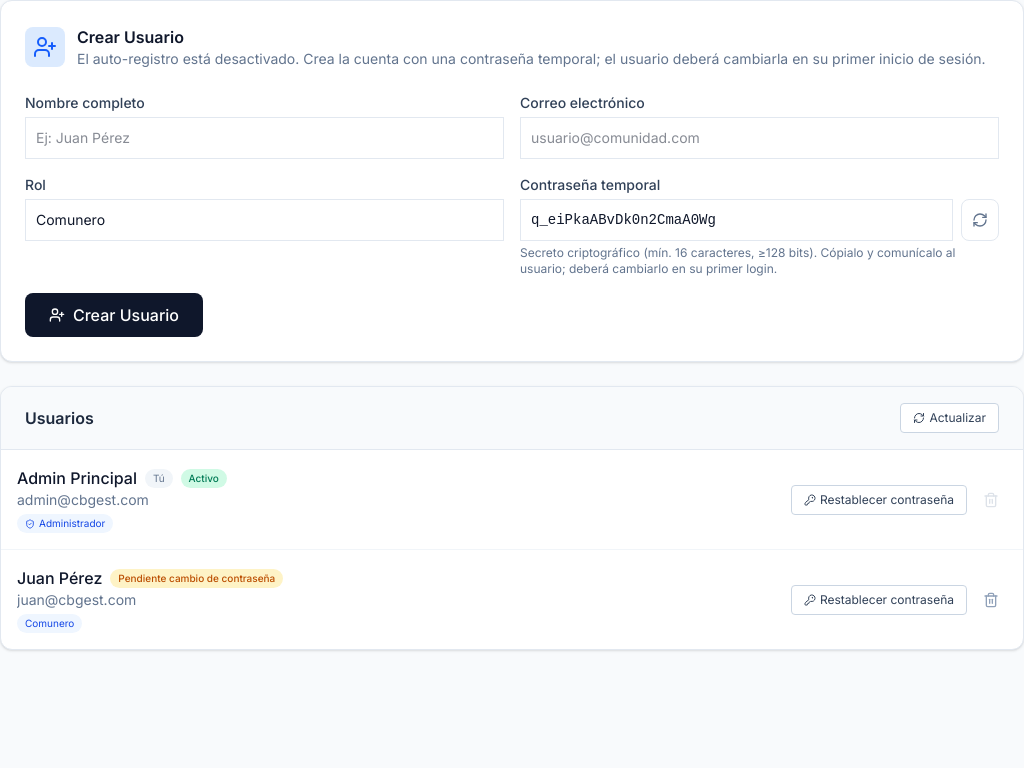
UserManagement › creates a new user with the form data and shows the temporary credentials
Check: the text "Juan Pérez" is shown, box top-left (17, 566), bottom-right (102, 590)
Type "Nueva Persona" into the field labelled "Nombre completo".
click(264, 138); type("Nueva Persona")  # box top-left (25, 117), bottom-right (504, 159)
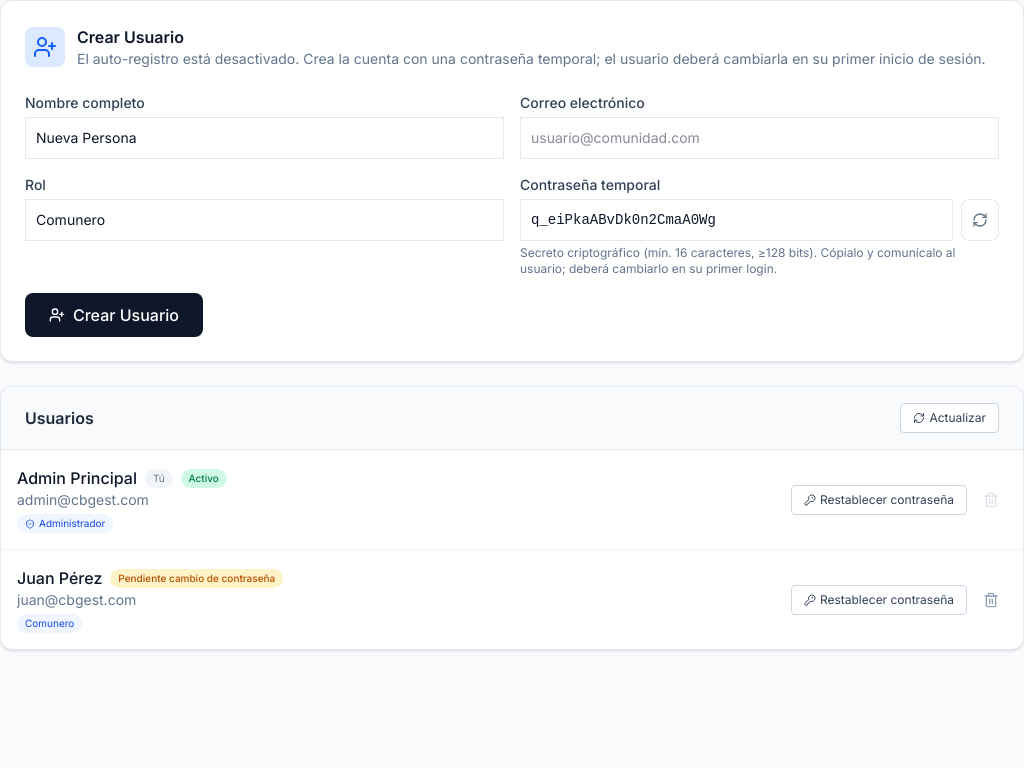
Type "nueva@cbgest.com" into the field labelled "Correo electrónico".
click(760, 138); type("nueva@cbgest.com")  # box top-left (520, 117), bottom-right (999, 159)
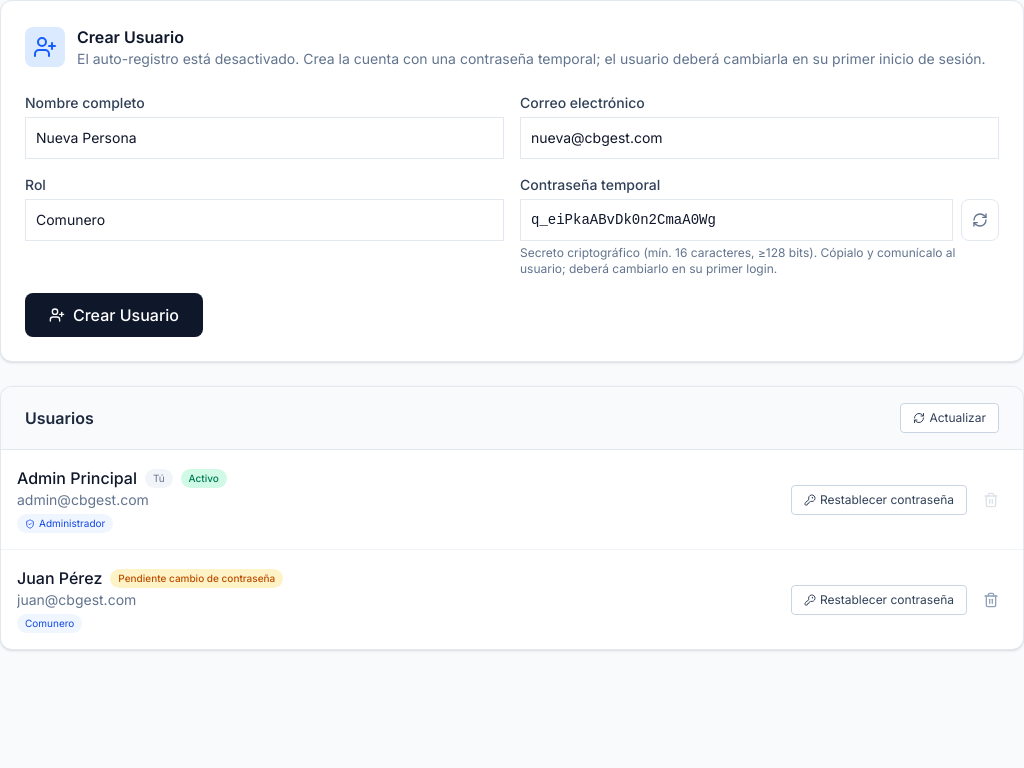
Click the button "Crear Usuario".
click(114, 315)  # box top-left (25, 293), bottom-right (203, 337)
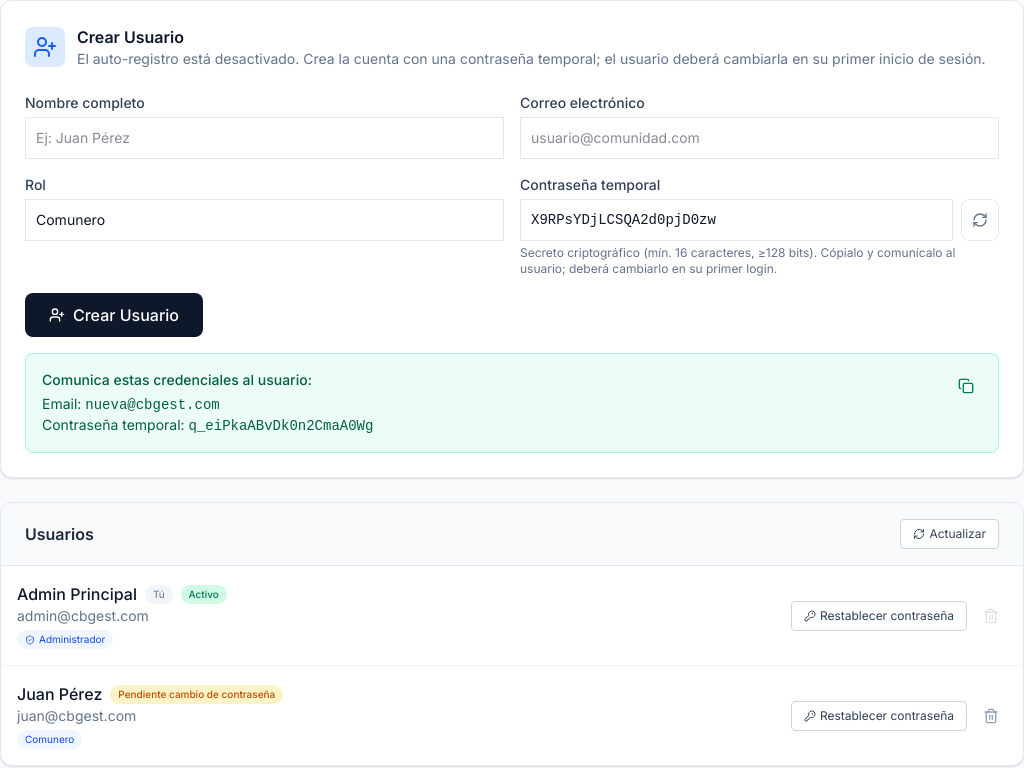
Check: the text "Comunica estas credenciales al usuario:" is shown, box top-left (42, 371), bottom-right (312, 388)
Check: the text "nueva@cbgest.com" is shown, box top-left (85, 397), bottom-right (220, 413)
